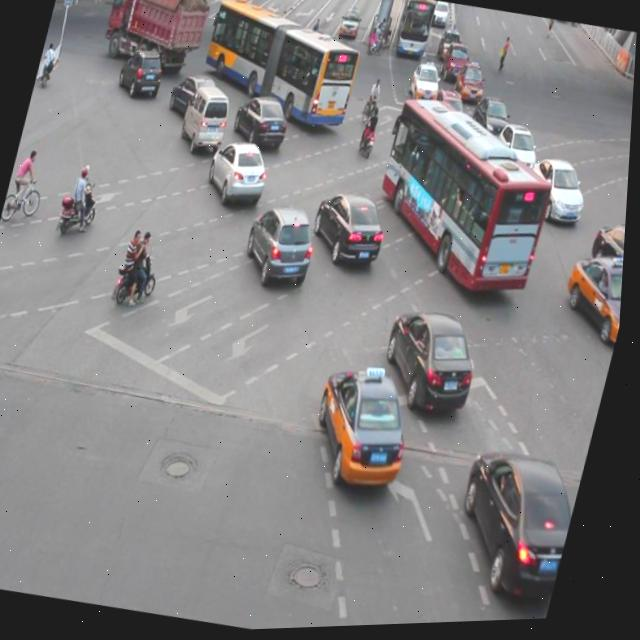bus: (98, 0, 212, 76)
car: (449, 442, 593, 608), (307, 361, 429, 496), (376, 304, 492, 421), (240, 200, 325, 295), (308, 188, 396, 274), (557, 252, 627, 351), (521, 155, 595, 231), (204, 137, 276, 213), (231, 90, 296, 154), (462, 153, 522, 218), (584, 219, 629, 298), (491, 123, 545, 180), (116, 46, 169, 103), (167, 70, 221, 124), (468, 96, 515, 148), (429, 90, 474, 142)
truck: (178, 82, 236, 156)
van: (363, 97, 570, 307), (195, 0, 369, 138)
